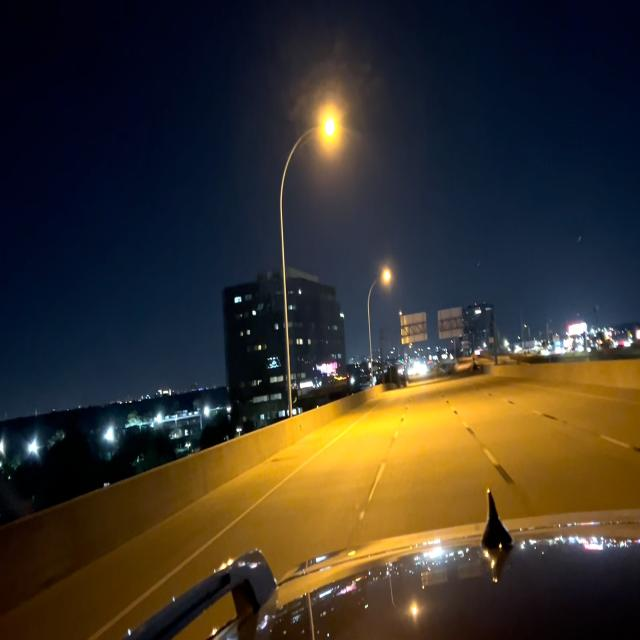back-of-sign: (400, 310, 428, 348), (438, 303, 465, 341)
